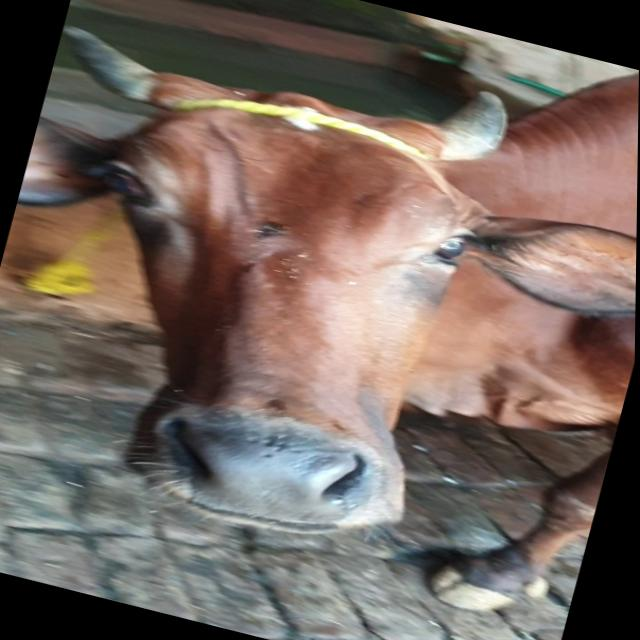cowFace: (4, 39, 517, 562)
